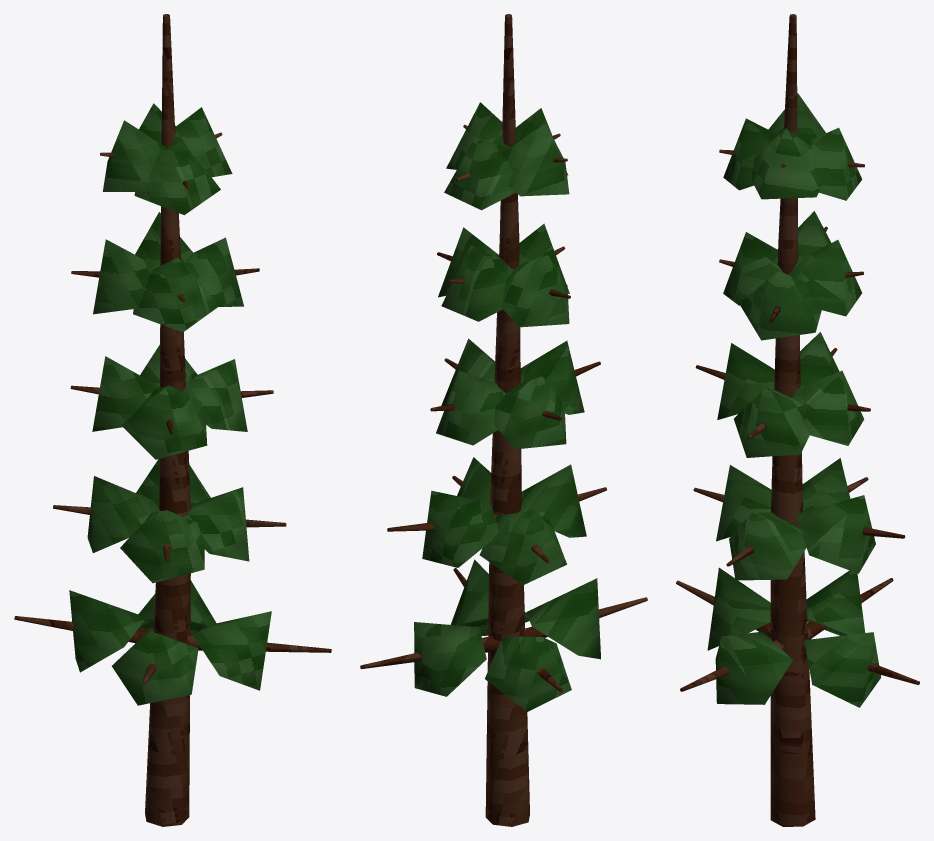
Rendered from pine03-lod1.glb.
3 renders of one model, left to right at view 1: azimuth 30°, elevation 25°; view 2: azimuth 150°, elevation 25°; view 3: azimuth 270°, elevation 25°, orthographic.
Visible parts, largest first — view 1: TZ_pine_Batch_01_LOD1, TZ_pine_Batch_00_LOD1; view 2: TZ_pine_Batch_01_LOD1, TZ_pine_Batch_00_LOD1; view 3: TZ_pine_Batch_01_LOD1, TZ_pine_Batch_00_LOD1.
Part boxes in pixels (x1=…): TZ_pine_Batch_01_LOD1: x1=69, y1=103, x2=271, y2=705; TZ_pine_Batch_00_LOD1: x1=14, y1=14, x2=331, y2=826; TZ_pine_Batch_01_LOD1: x1=414, y1=102, x2=600, y2=711; TZ_pine_Batch_00_LOD1: x1=360, y1=14, x2=647, y2=826; TZ_pine_Batch_01_LOD1: x1=707, y1=93, x2=881, y2=707; TZ_pine_Batch_00_LOD1: x1=676, y1=14, x2=919, y2=826.
Bounding box in the file's own units: 2.45 × 8.8 × 2.42.
Materials: 2 (2 with a texture image).
